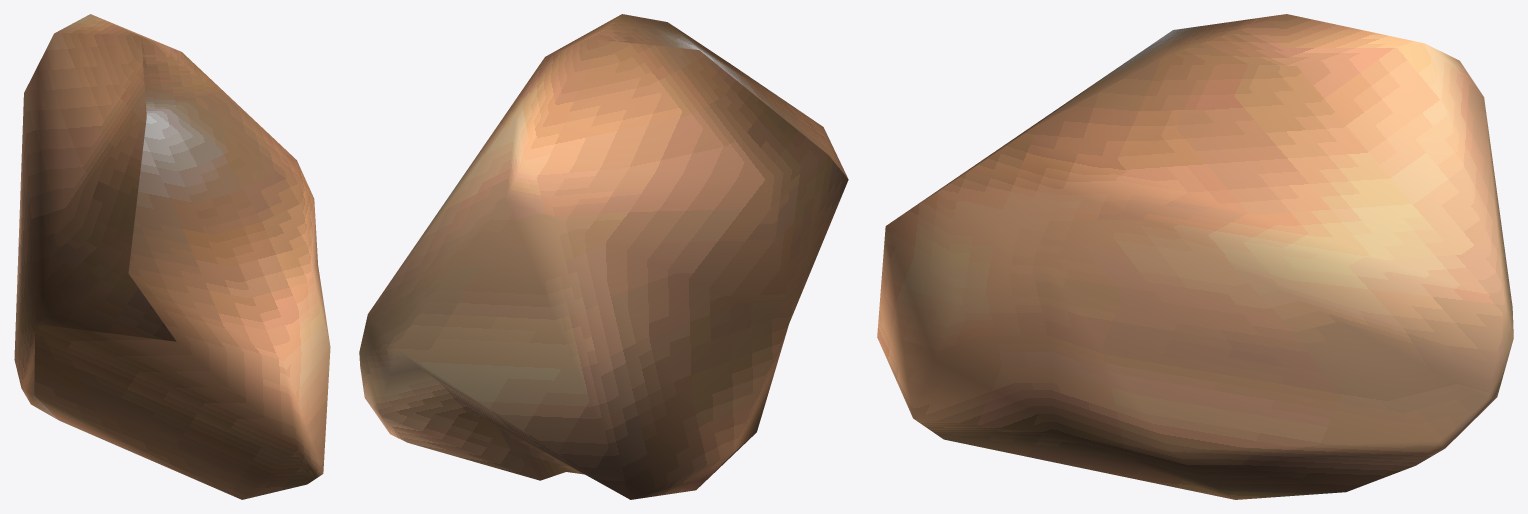
File: STONE_THROW_BILBO.fbx
The picture shows the model from 3 angles, left to right: view 1: azimuth 30°, elevation 25°; view 2: azimuth 150°, elevation 25°; view 3: azimuth 270°, elevation 25°; orthographic projection. The views are drawn at different scales.
Visible parts, largest first — view 1: STONE_THROW_BILBO; view 2: STONE_THROW_BILBO; view 3: STONE_THROW_BILBO.
Boxes of the visible parts, box(x1,y1,x2,y2) form: STONE_THROW_BILBO: box(14, 14, 330, 499); STONE_THROW_BILBO: box(359, 14, 848, 499); STONE_THROW_BILBO: box(877, 14, 1513, 499).
Size of the model in its own units: 687 by 1031 by 1289.
1 material, 1 textured.
